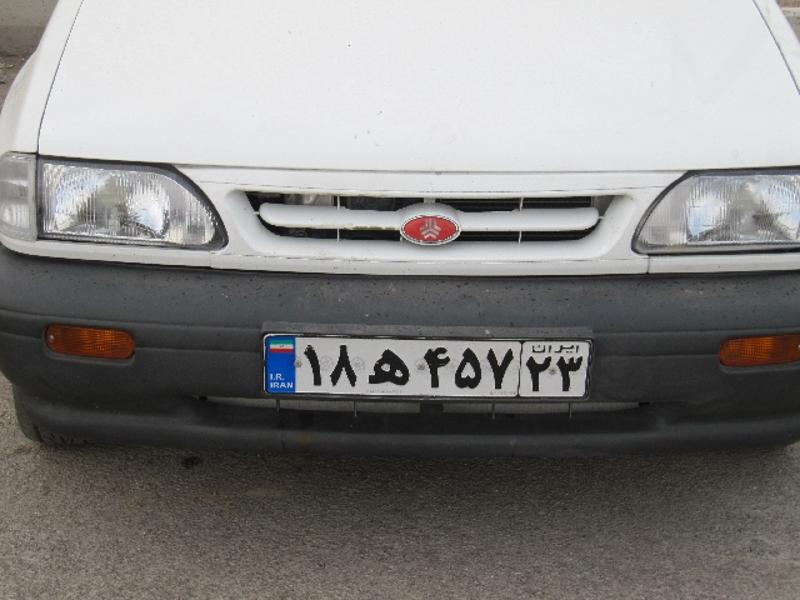Plate: (265, 335, 586, 396)
